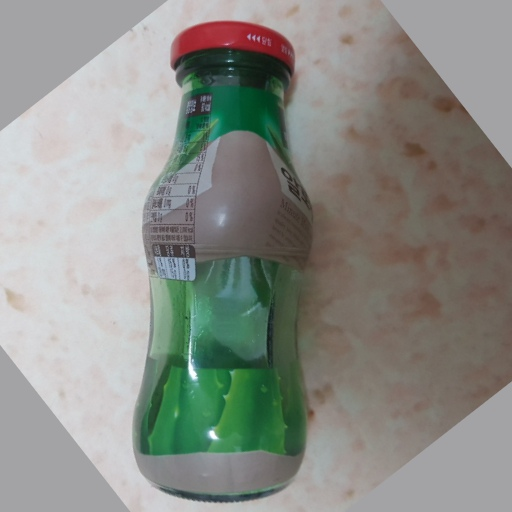Glass_4: (124, 20, 318, 503)
